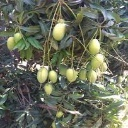mango: (53, 23, 65, 41), (36, 67, 48, 83), (88, 40, 100, 55), (64, 68, 76, 82), (47, 70, 58, 84)
